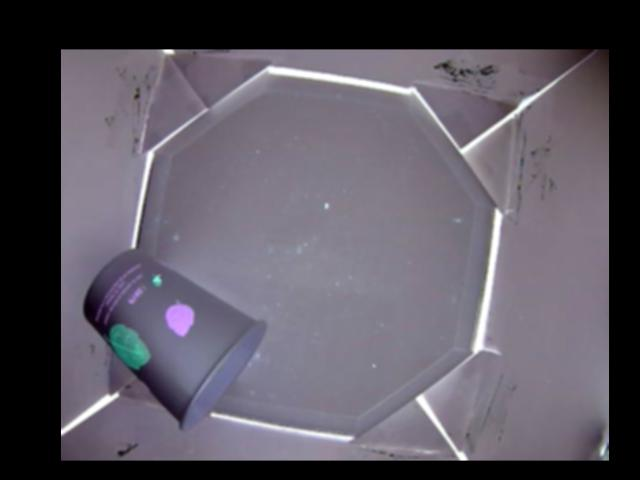Cup: (79, 246, 268, 430)
